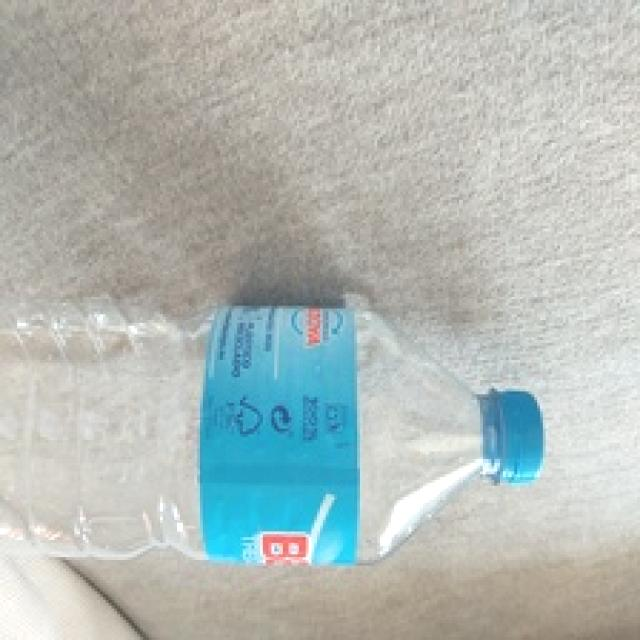bottle: (1, 283, 557, 572)
